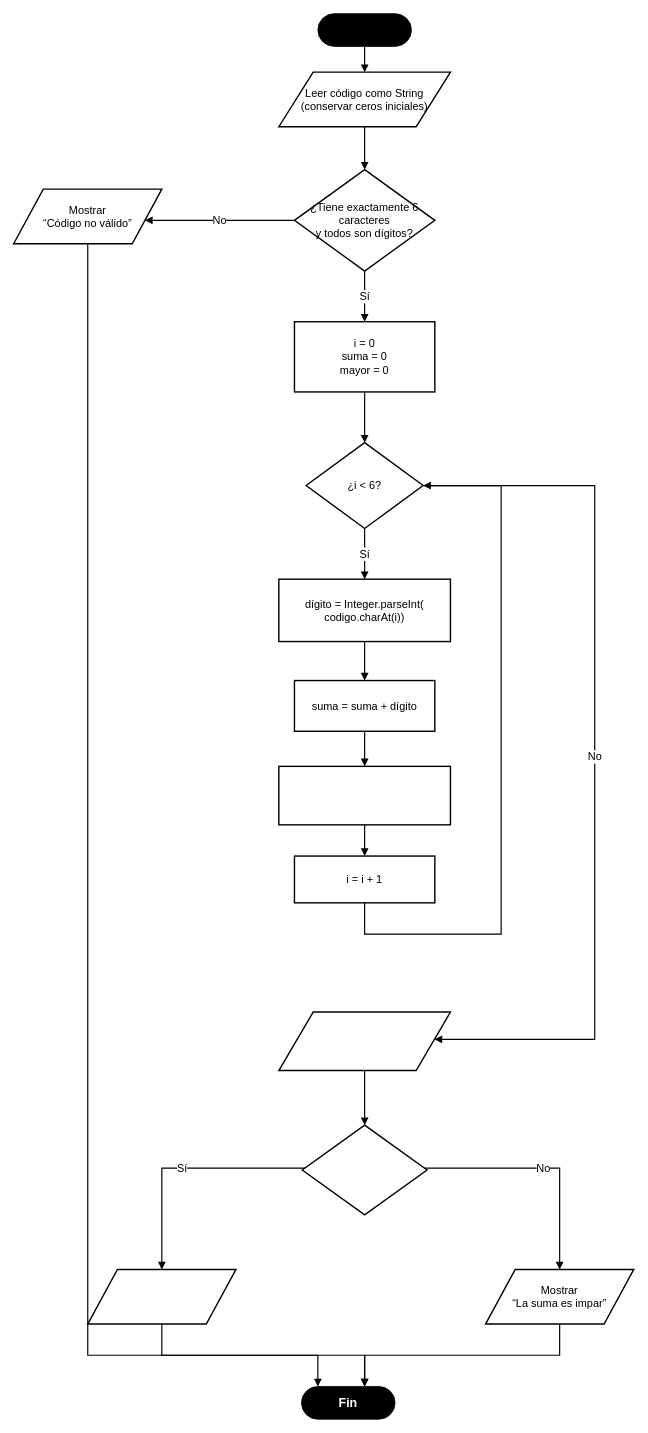
Some shapes in this 648 by 1433 pixel diagram are drawn without their labels. The centre of each missing label's shape, as x and y in pixels:
"Inicio" goes at (x=364, y=29).
"mayor = Integer.max( mayor, dígito)" goes at (x=364, y=795).
"Mostrar suma total y dígito mayor" goes at (x=364, y=1041).
"Mostrar “La suma es par”" goes at (x=161, y=1296).
"¿suma % 2 == 0?" goes at (x=364, y=1169).
